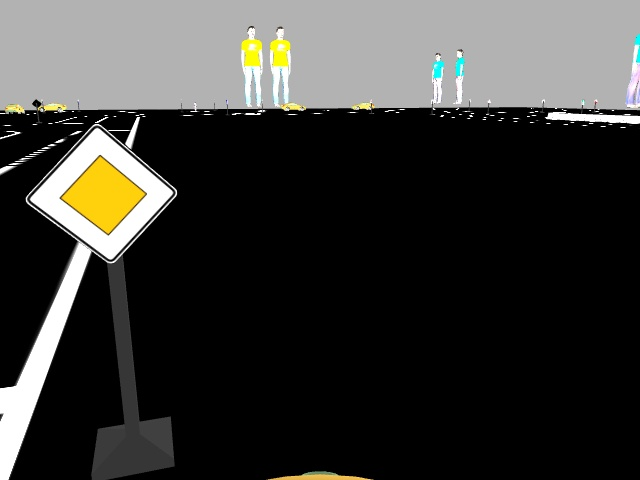Priority: (37, 137, 170, 260)
